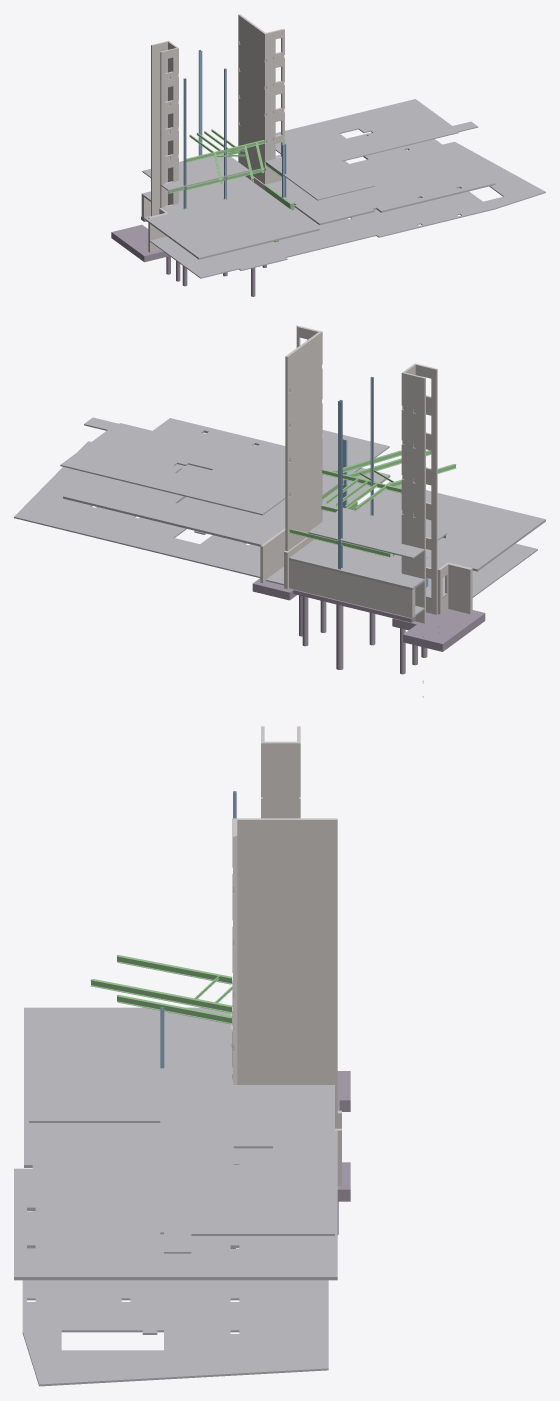
Rendered from 35922116-5aaf-442a-acde-64a42711aff7.glb.
3 renders of one model, top to bottom at view 1: azimuth 30°, elevation 25°; view 2: azimuth 150°, elevation 25°; view 3: azimuth 270°, elevation 25°, orthographic. The views are drawn at different scales.
Visible parts, largest first — view 1: 4738, 3054, 3256, 3290, 3948; view 2: 4738, 3054, 3948, 3256, 3290; view 3: 4738, 3054, 3256, 3948.
Boxes of the visible parts, box(x1,y1,x2,y2) form: 4738: box(141, 99, 545, 278); 3054: box(141, 14, 284, 252); 3256: box(168, 129, 294, 242); 3290: box(182, 50, 286, 209); 3948: box(111, 216, 266, 296); 4738: box(14, 417, 545, 615); 3054: box(260, 325, 472, 623); 3948: box(252, 578, 485, 674); 3256: box(289, 450, 456, 557); 3290: box(338, 377, 428, 587); 4738: box(14, 1007, 337, 1386); 3054: box(230, 726, 341, 1185); 3256: box(90, 955, 232, 1024); 3948: box(230, 1071, 350, 1248).
Bounding box in the file's own units: 63.31 × 35 × 37.24.
